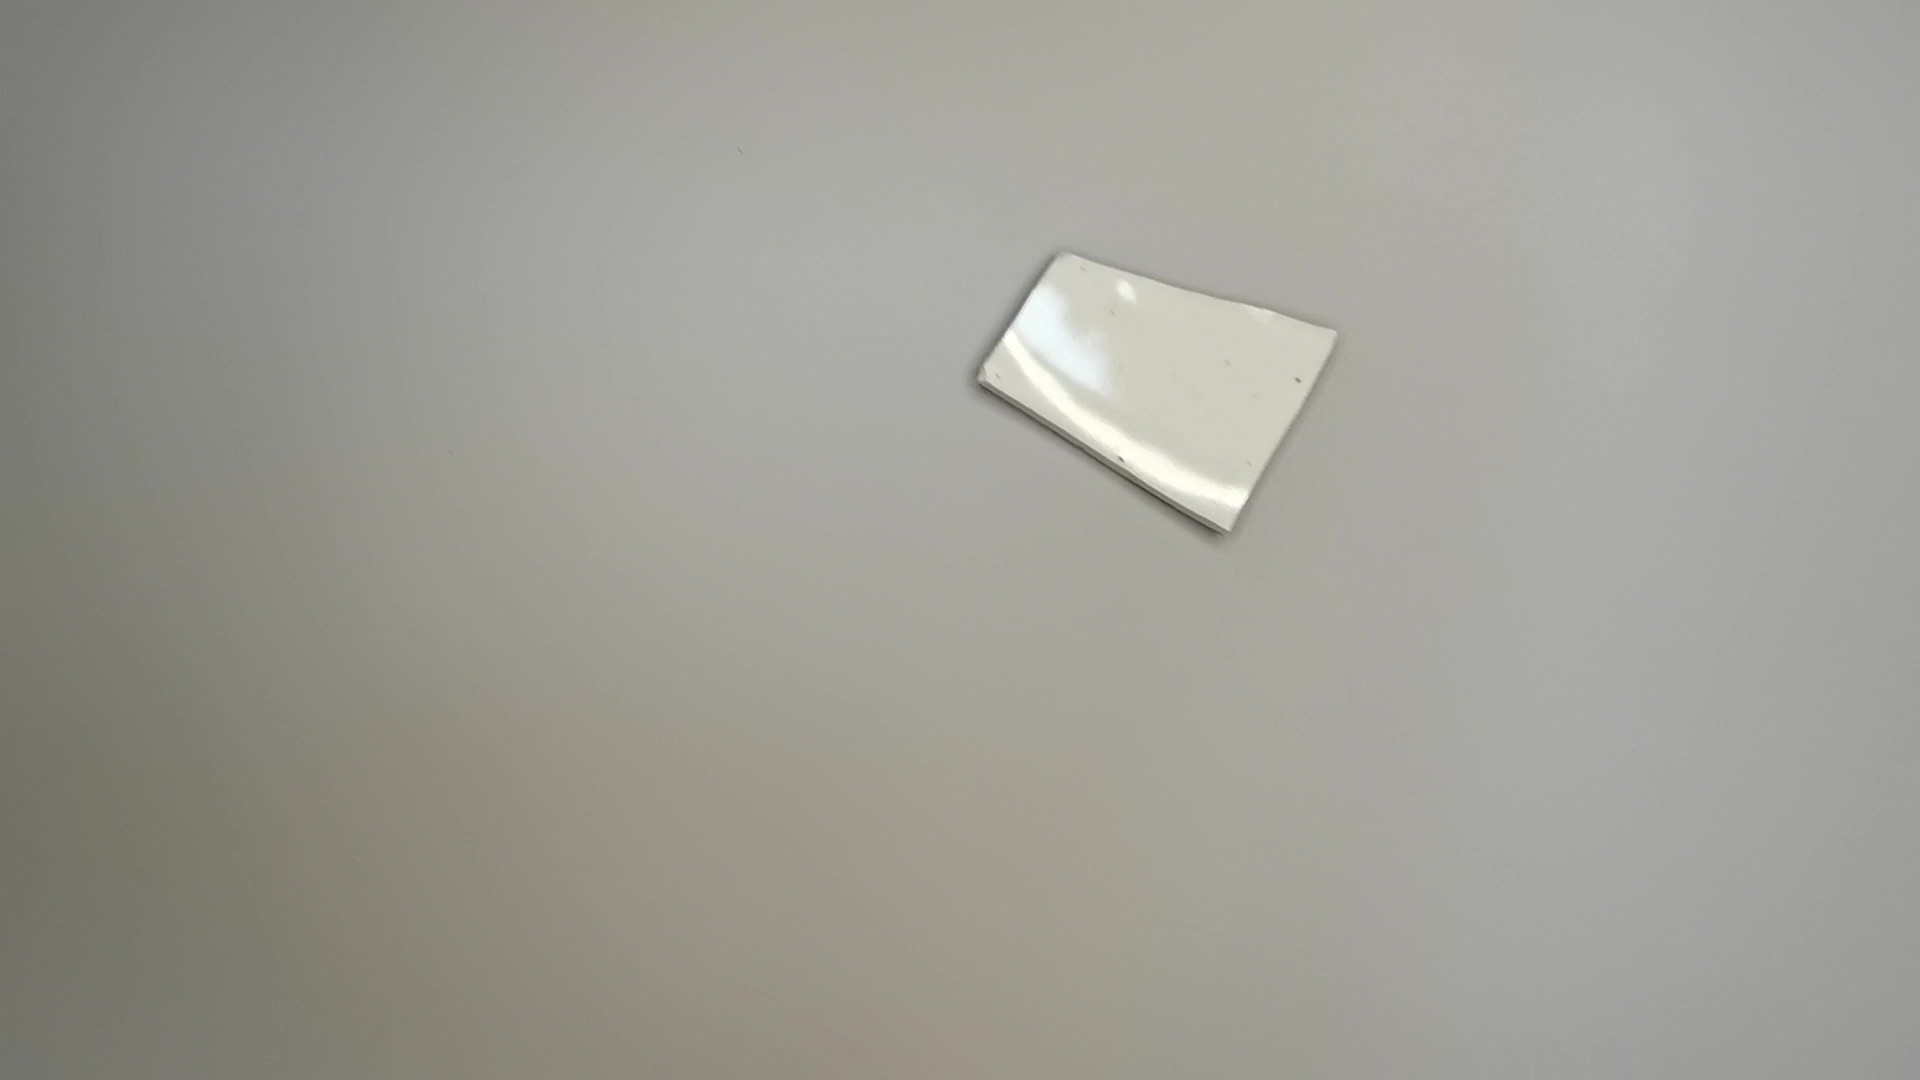ceramic: (963, 243, 1352, 546)
